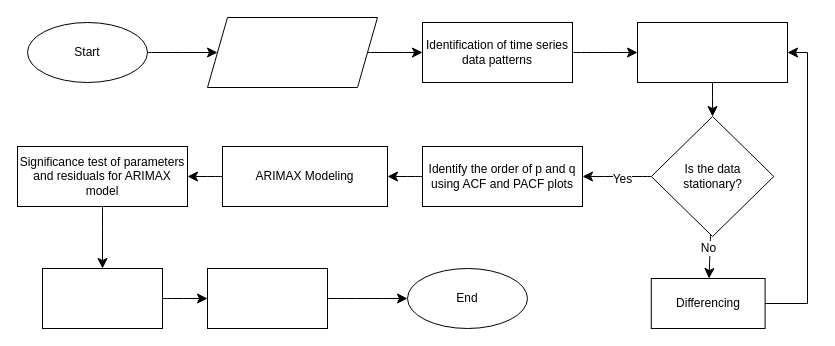
This 835x346 diagram has some shape labels left out. Each missing label, with the box of its shape:
Interpretation of results: (206, 268, 328, 328)
Model validation using MAPE, AIC and BIC: (42, 268, 162, 328)
Stationarity test of data: (636, 22, 788, 82)
Target variable (Price) and Exogenous variables data: (206, 16, 378, 88)
